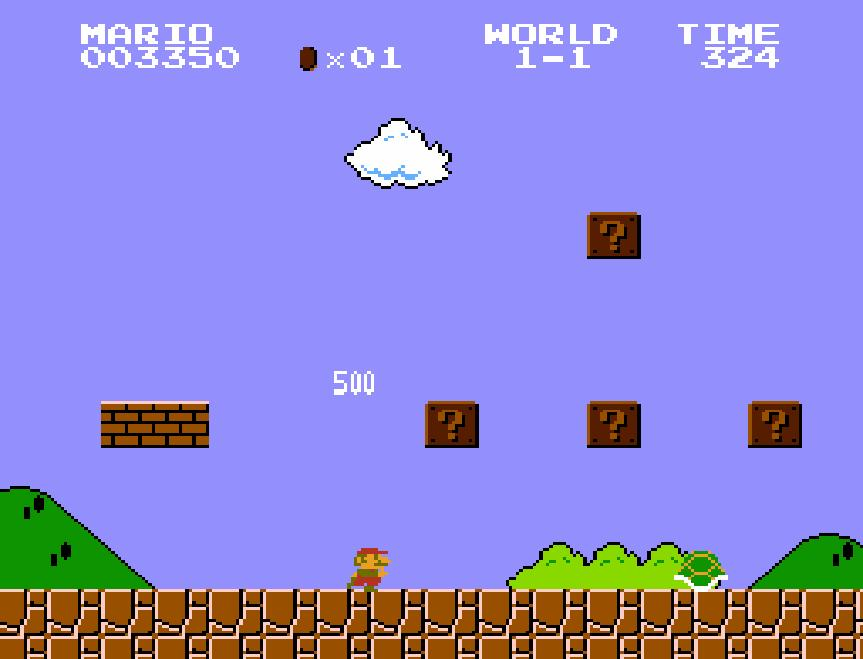little_mario: (338, 544, 396, 594)
